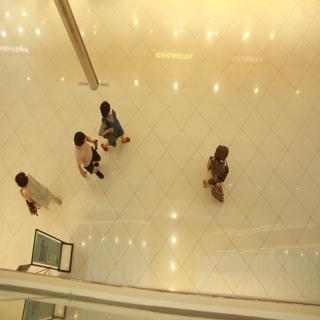person: (10, 162, 66, 228), (65, 121, 117, 188), (201, 132, 238, 205), (92, 95, 136, 149)
